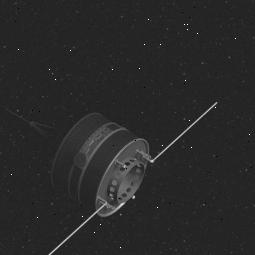double_start: (35, 102, 165, 223)
